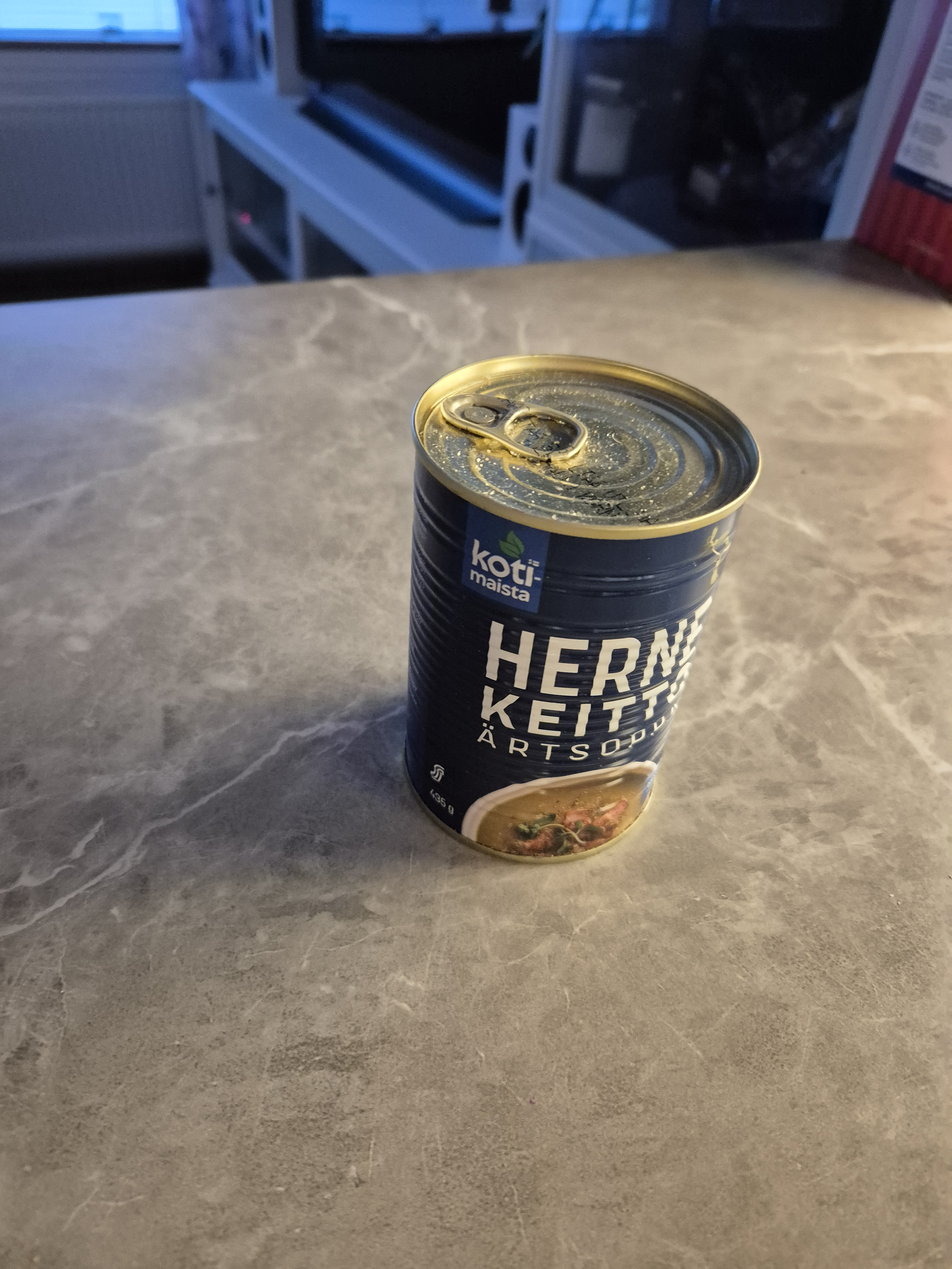Konservburk: (399, 354, 764, 867)
